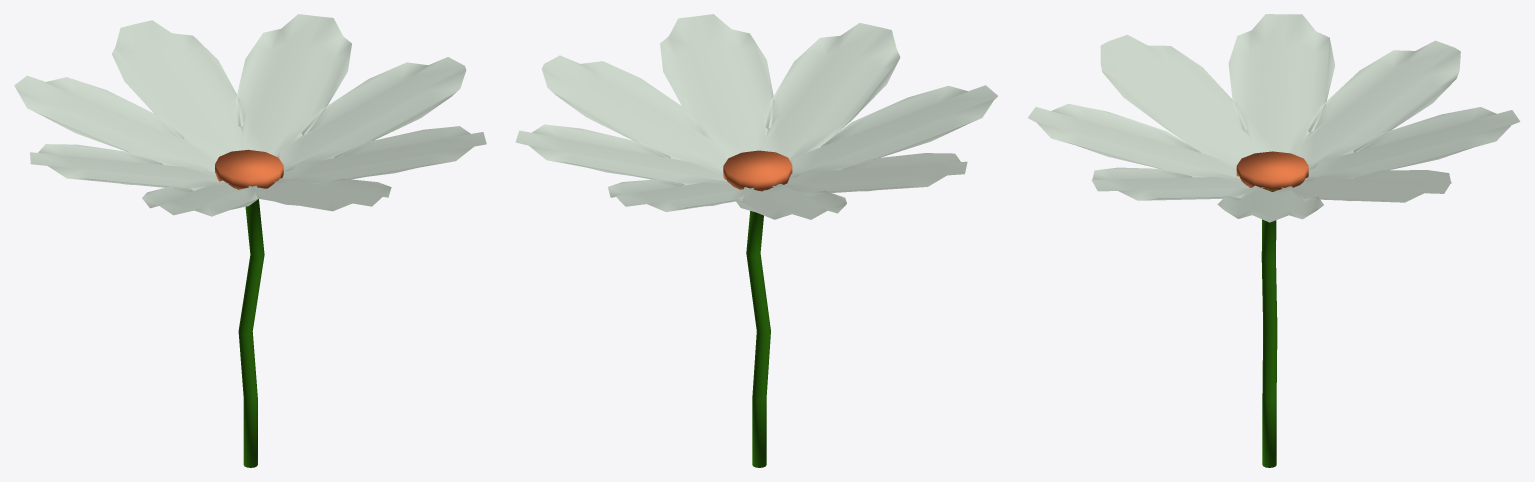
The model's file is flower3.fbx.
3 views of the same model, side by side, from view 1: azimuth 30°, elevation 25°; view 2: azimuth 150°, elevation 25°; view 3: azimuth 270°, elevation 25° (orthographic).
Visible parts, largest first — view 1: Pedals, Circle.001, Round; view 2: Pedals, Circle.001, Round; view 3: Pedals, Circle.001, Round.
Boxes of the visible parts, left/top/right/bottom form: Pedals: left=14, top=14, right=486, bottom=216; Circle.001: left=237, top=189, right=264, bottom=467; Round: left=215, top=149, right=283, bottom=189; Pedals: left=515, top=14, right=997, bottom=219; Circle.001: left=746, top=190, right=770, bottom=467; Round: left=723, top=150, right=792, bottom=190; Pedals: left=1028, top=14, right=1520, bottom=222; Circle.001: left=1249, top=187, right=1277, bottom=467; Round: left=1236, top=151, right=1308, bottom=190.
Bounding box in the file's own units: 517 × 406 × 517.
